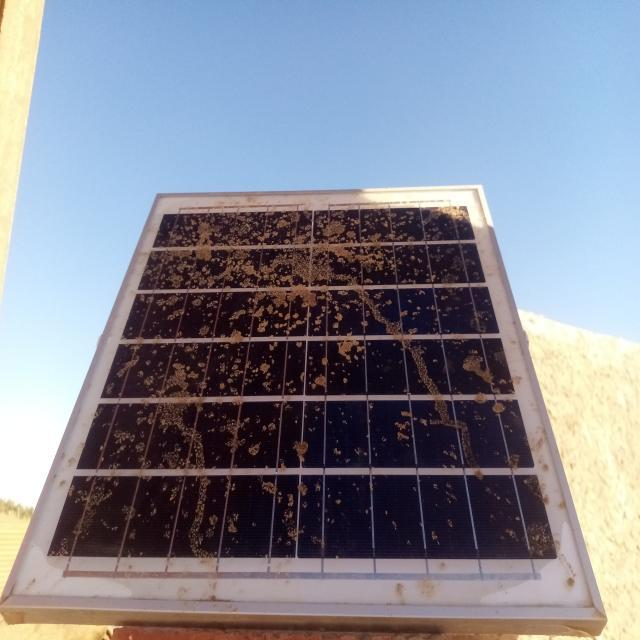faulty: (5, 188, 602, 614)
